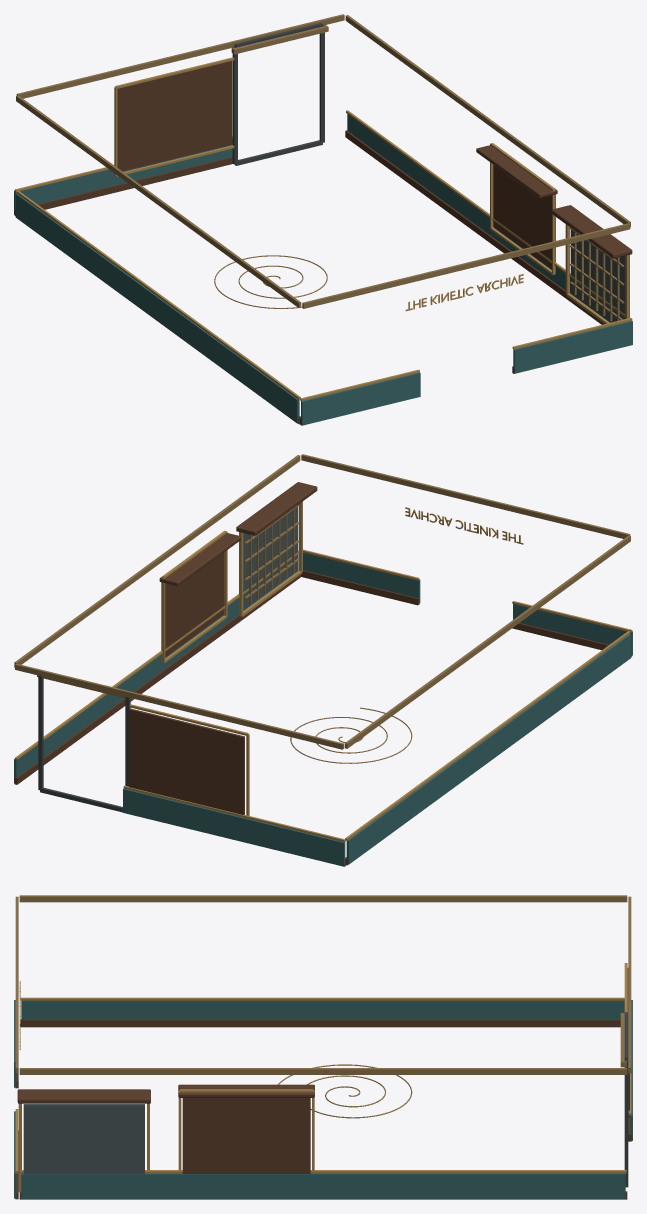
File: order-lobby-dressing.glb
3 renders of one model, top to bottom at view 1: azimuth 30°, elevation 25°; view 2: azimuth 150°, elevation 25°; view 3: azimuth 270°, elevation 25°, orthographic. The views are drawn at different scales.
Visible parts, largest first — view 1: LobbyDressing_OrientationReveal, LobbyDressing_Wainscot_EW_-6, LobbyDressing_ReceptionBack, LobbyDressing_Wainscot_EW_+6, LobbyDressing_Wainscot_S_0, LobbyDressing_Wainscot_S_1, LobbyDressing_Wainscot_N_Left, LobbyDressing_Crown_S, LobbyDressing_Crown_EW_-6, LobbyDressing_ShopShutter, LobbyDressing_Crown_EW_+6, LobbyDressing_Crown_N (+11 smaller); view 2: LobbyDressing_OrientationReveal, LobbyDressing_Wainscot_EW_-6, LobbyDressing_Wainscot_N_Left, LobbyDressing_ReceptionBack, LobbyDressing_Wainscot_EW_+6, LobbyDressing_ShopShutter, LobbyDressing_Crown_N, LobbyDressing_Crown_EW_-6, LobbyDressing_Crown_S, LobbyDressing_Crown_EW_+6, LobbyDressing_Wainscot_S_1, LobbyDressing_Baseboard_EW_+6 (+11 smaller); view 3: LobbyDressing_Wainscot_EW_+6, LobbyDressing_Wainscot_EW_-6, LobbyDressing_ReceptionBack, LobbyDressing_ShopShutter, LobbyDressing_Baseboard_EW_-6, LobbyDressing_Crown_EW_-6, LobbyDressing_Crown_EW_+6, LobbyDressing_ChairRail_EW_-6, LobbyDressing_ShopCanopy, LobbyDressing_ReceptionCanopy, LobbyDressing_ChairRail_EW_+6, LobbyDressing_SpiralFloorInlay (+4 smaller).
Boxes of the visible parts, x1,y1,x2,y2 form: LobbyDressing_OrientationReveal: (117, 61, 232, 171); LobbyDressing_Wainscot_EW_-6: (15, 193, 299, 423); LobbyDressing_ReceptionBack: (493, 165, 555, 268); LobbyDressing_Wainscot_EW_+6: (347, 114, 611, 322); LobbyDressing_Wainscot_S_0: (301, 372, 420, 425); LobbyDressing_Wainscot_S_1: (513, 321, 632, 373); LobbyDressing_Wainscot_N_Left: (14, 139, 232, 215); LobbyDressing_Crown_S: (302, 223, 630, 308); LobbyDressing_Crown_EW_-6: (16, 95, 301, 307); LobbyDressing_ShopShutter: (570, 230, 629, 322); LobbyDressing_Crown_EW_+6: (345, 15, 630, 227); LobbyDressing_Crown_N: (16, 14, 344, 98); LobbyDressing_OrientationReveal: (129, 708, 244, 814); LobbyDressing_Wainscot_EW_-6: (346, 634, 631, 864); LobbyDressing_Wainscot_N_Left: (123, 788, 345, 866); LobbyDressing_ReceptionBack: (161, 553, 223, 656); LobbyDressing_Wainscot_EW_+6: (14, 554, 298, 782); LobbyDressing_ShopShutter: (243, 506, 298, 609); LobbyDressing_Crown_N: (15, 663, 343, 749); LobbyDressing_Crown_EW_-6: (344, 535, 630, 748); LobbyDressing_Crown_S: (301, 454, 630, 538); LobbyDressing_Crown_EW_+6: (14, 455, 300, 667); LobbyDressing_Wainscot_S_1: (303, 552, 420, 603); LobbyDressing_Baseboard_EW_+6: (14, 574, 300, 784); LobbyDressing_Wainscot_EW_+6: (21, 1173, 625, 1199); LobbyDressing_Wainscot_EW_-6: (21, 1000, 624, 1019); LobbyDressing_ReceptionBack: (182, 1098, 310, 1173); LobbyDressing_ShopShutter: (23, 1104, 144, 1173); LobbyDressing_Baseboard_EW_-6: (20, 1019, 620, 1027); LobbyDressing_Crown_EW_-6: (19, 895, 627, 902); LobbyDressing_Crown_EW_+6: (19, 1068, 627, 1074); LobbyDressing_ChairRail_EW_-6: (20, 997, 624, 1000); LobbyDressing_ShopCanopy: (17, 1089, 150, 1103); LobbyDressing_ReceptionCanopy: (178, 1084, 314, 1097); LobbyDressing_ChairRail_EW_+6: (20, 1170, 626, 1173); LobbyDressing_SpiralFloorInlay: (278, 1064, 412, 1118).
Size of the model in its own units: 12.12 by 4.26 by 18.12.
